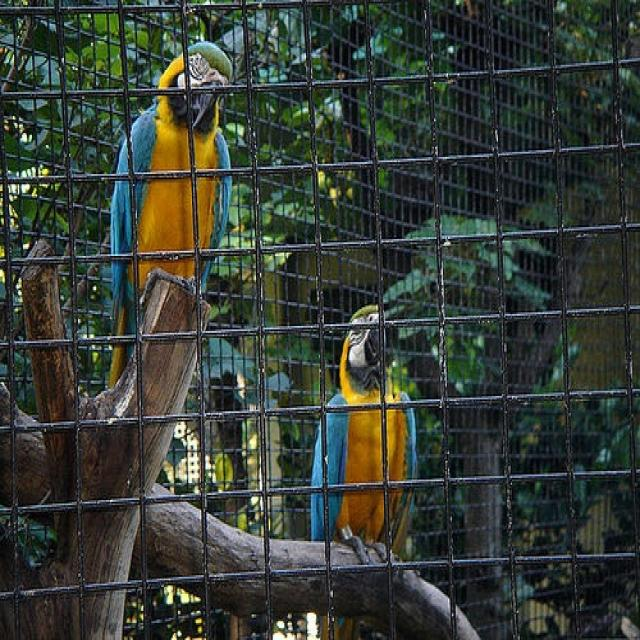bird: (104, 37, 235, 396), (308, 304, 420, 566)
